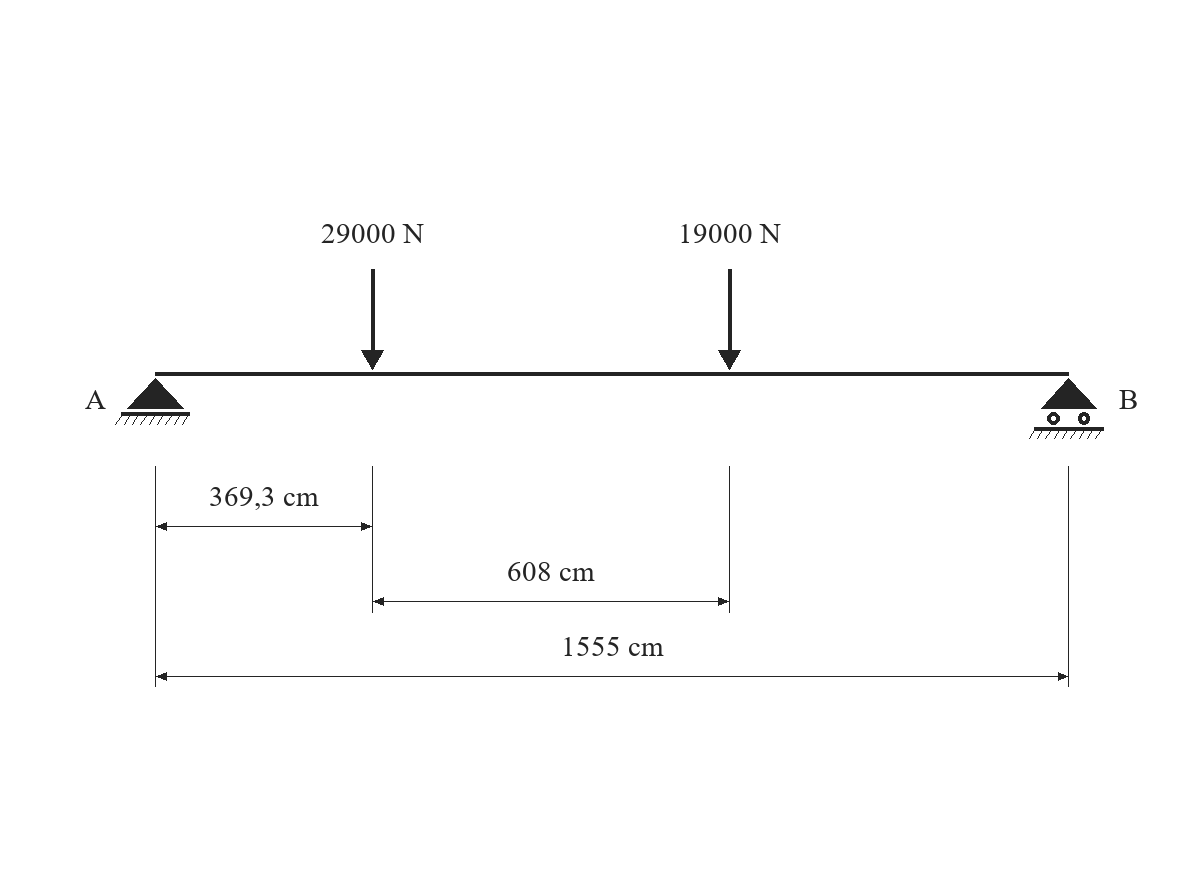pin_support: (115, 378, 190, 425)
point_load: (361, 269, 384, 370), (718, 269, 741, 370)
roller_support: (1029, 378, 1104, 439)
